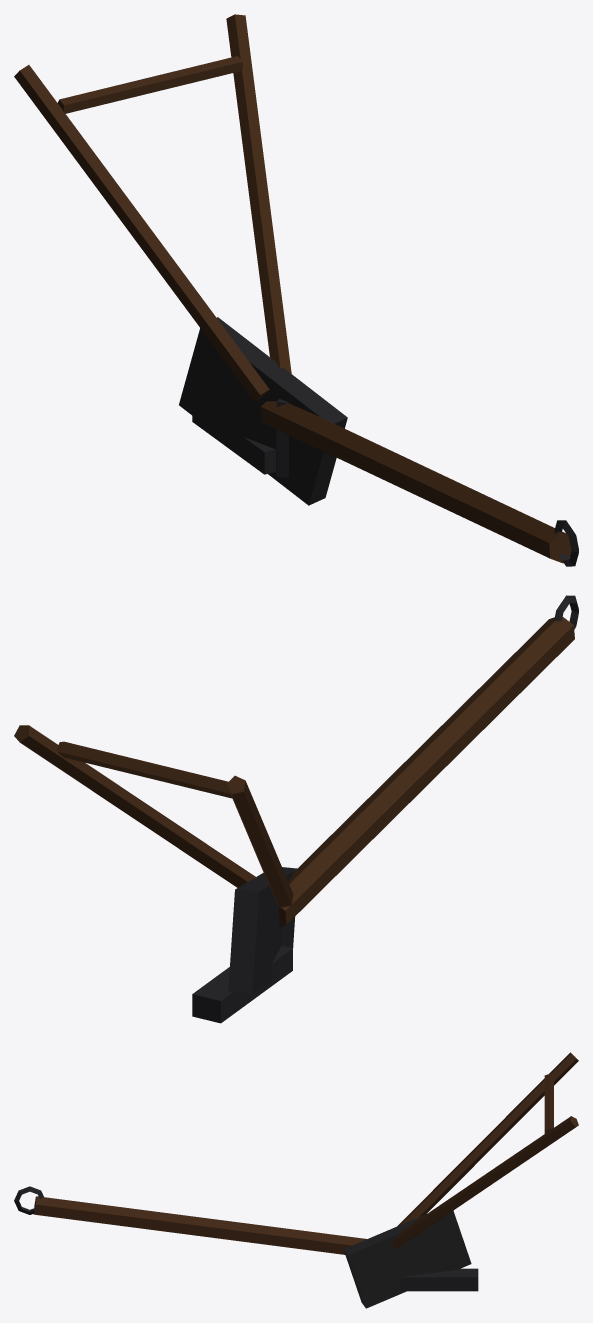
File: SM_Plough.obj
3 views of the same model, one above another, from view 1: azimuth 30°, elevation 25°; view 2: azimuth 150°, elevation 25°; view 3: azimuth 270°, elevation 25° (orthographic). The views are drawn at different scales.
Visible parts, largest first — view 1: SM_Plough; view 2: SM_Plough; view 3: SM_Plough.
Part boxes in pixels (left/top/right/bottom): SM_Plough: left=14, top=14, right=578, bottom=566; SM_Plough: left=14, top=595, right=578, bottom=1023; SM_Plough: left=14, top=1052, right=578, bottom=1308.
Size of the model in its own units: 0.6436 by 0.9242 by 2.2.
